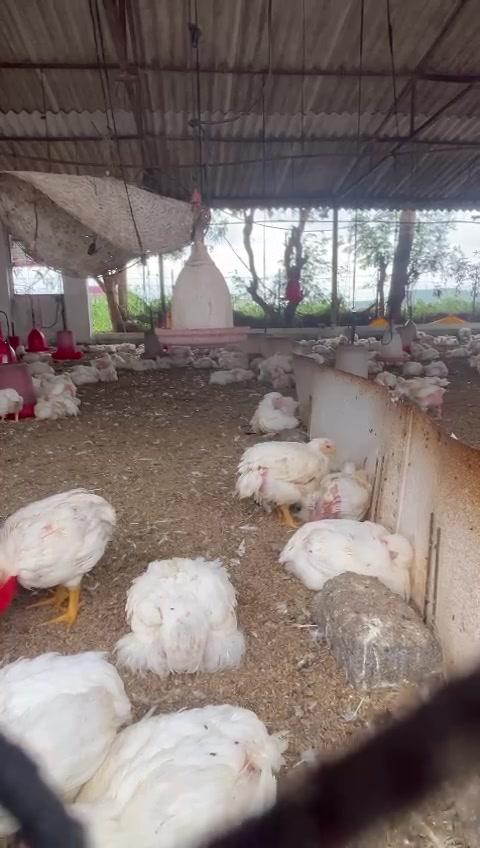AbNormal: (54, 705, 280, 848), (0, 649, 134, 818), (122, 555, 241, 668), (279, 519, 415, 605), (311, 460, 372, 516), (249, 390, 304, 436), (32, 392, 78, 417), (82, 359, 119, 381), (34, 372, 73, 391)
Normal: (0, 492, 117, 632), (229, 439, 339, 526), (397, 372, 447, 413), (0, 385, 25, 425)
